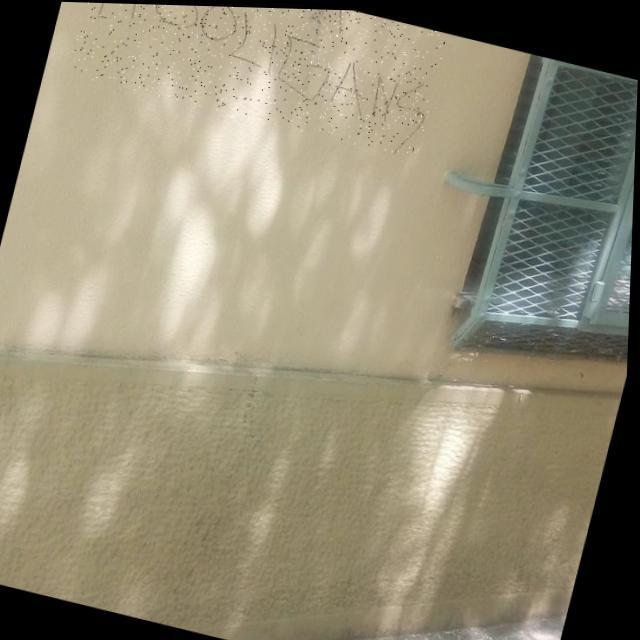-: (65, 2, 448, 156)
